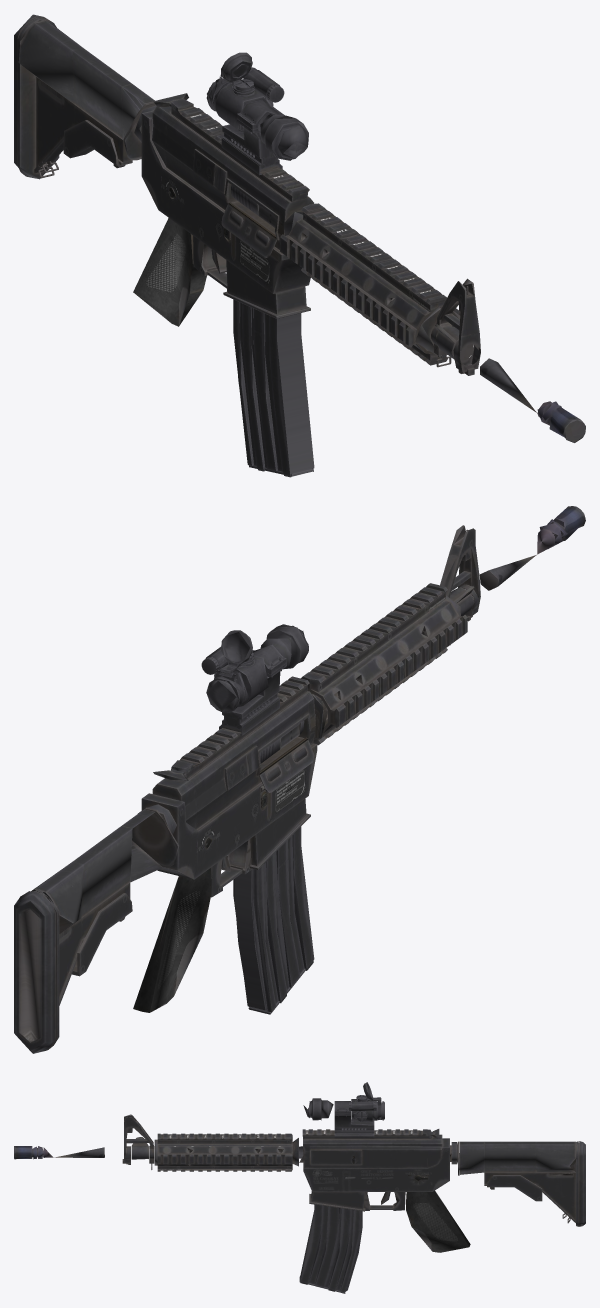
The model's file is m4colt_leve.glb.
The picture shows the model from 3 angles, top to bottom: view 1: azimuth 30°, elevation 25°; view 2: azimuth 150°, elevation 25°; view 3: azimuth 270°, elevation 25°; orthographic projection. The views are drawn at different scales.
Visible parts, largest first — view 1: M4Colt; view 2: M4Colt; view 3: M4Colt.
Part boxes in pixels (<box>): M4Colt: <box>14,14,585,477</box>; M4Colt: <box>14,506,585,1053</box>; M4Colt: <box>14,1082,585,1293</box>.
Size of the model in its own units: 0.3105 by 1.99 by 4.96.
Materials: 3 (3 with a texture image).
